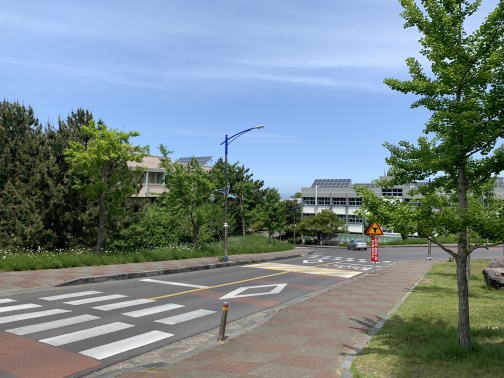College Of Education: (121, 146, 218, 205)
